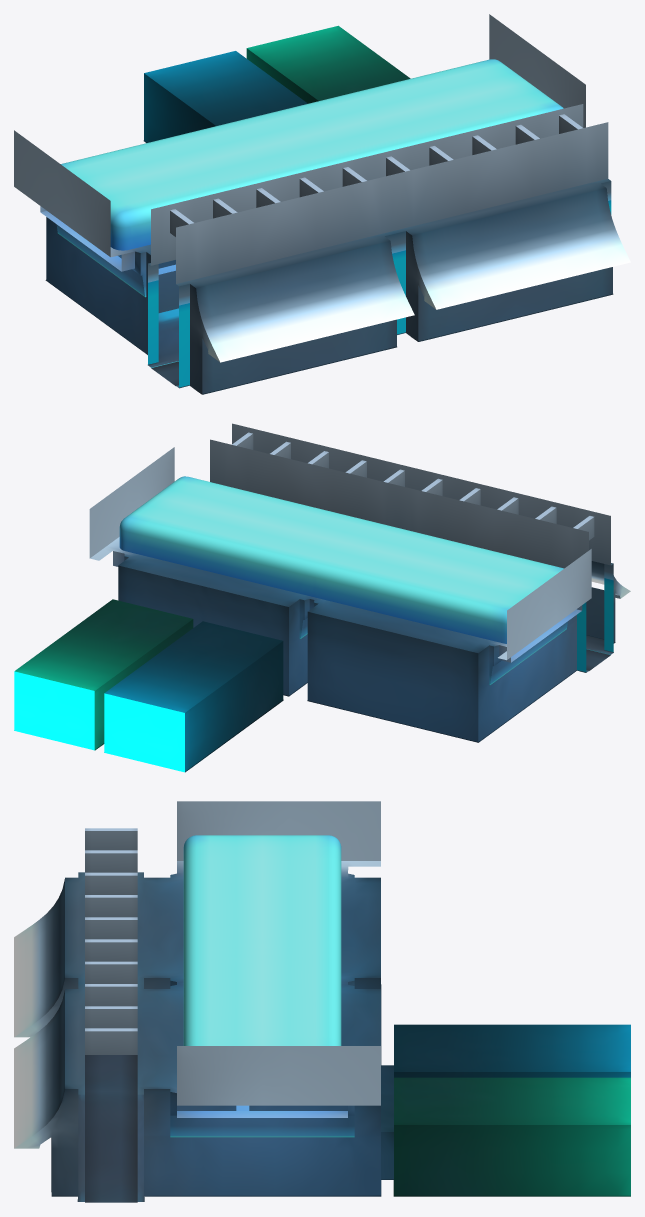
File: M_Double_room_x.fbx
3 renders of one model, top to bottom at view 1: azimuth 30°, elevation 25°; view 2: azimuth 150°, elevation 25°; view 3: azimuth 270°, elevation 25°, orthographic. The views are drawn at different scales.
Parts seen in each view (by area): view 1: Room.009; view 2: Room.009; view 3: Room.009.
Boxes of the visible parts, x1=… form: Room.009: x1=14, y1=14, x2=630, y2=394; Room.009: x1=14, y1=423, x2=630, y2=772; Room.009: x1=14, y1=801, x2=630, y2=1202.
Bounding box in the file's own units: 4400 × 1405 × 4689.
